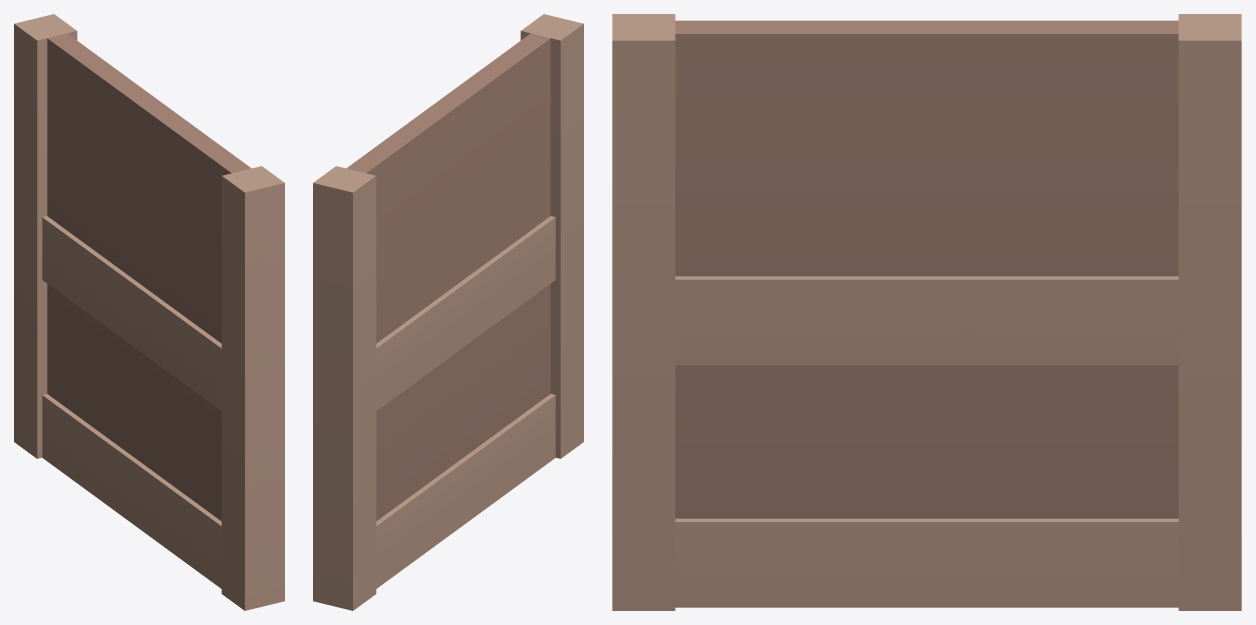
Rendered from wall-wood-detail-horizontal.glb.
3 renders of one model, left to right at view 1: azimuth 30°, elevation 25°; view 2: azimuth 150°, elevation 25°; view 3: azimuth 270°, elevation 25°, orthographic. The views are drawn at different scales.
Parts seen in each view (by area): view 1: wall-wood-detail-horizontal; view 2: wall-wood-detail-horizontal; view 3: wall-wood-detail-horizontal.
Boxes of the visible parts, left/top/right/bottom form: wall-wood-detail-horizontal: left=14, top=14, right=284, bottom=610; wall-wood-detail-horizontal: left=313, top=14, right=583, bottom=610; wall-wood-detail-horizontal: left=612, top=14, right=1241, bottom=610.
Bounding box in the file's own units: 0.1 × 1 × 1.
